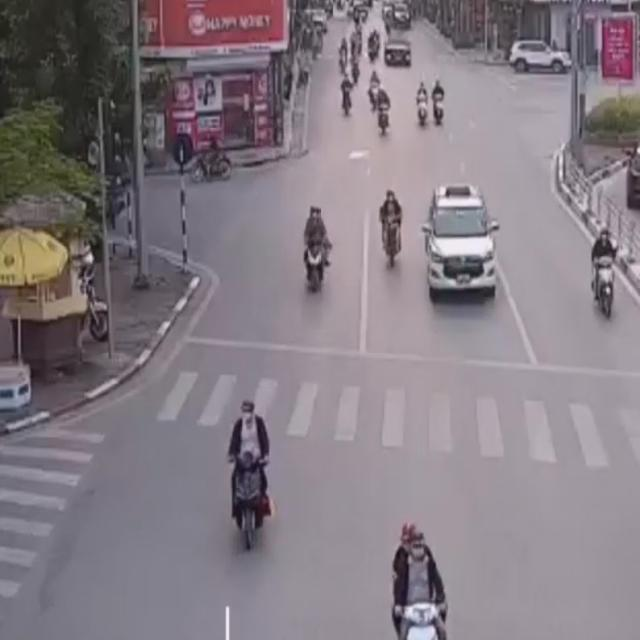car: (418, 180, 504, 306)
motorbike: (223, 396, 277, 558), (384, 515, 450, 640), (588, 228, 620, 326), (298, 204, 332, 296), (378, 185, 407, 271)
